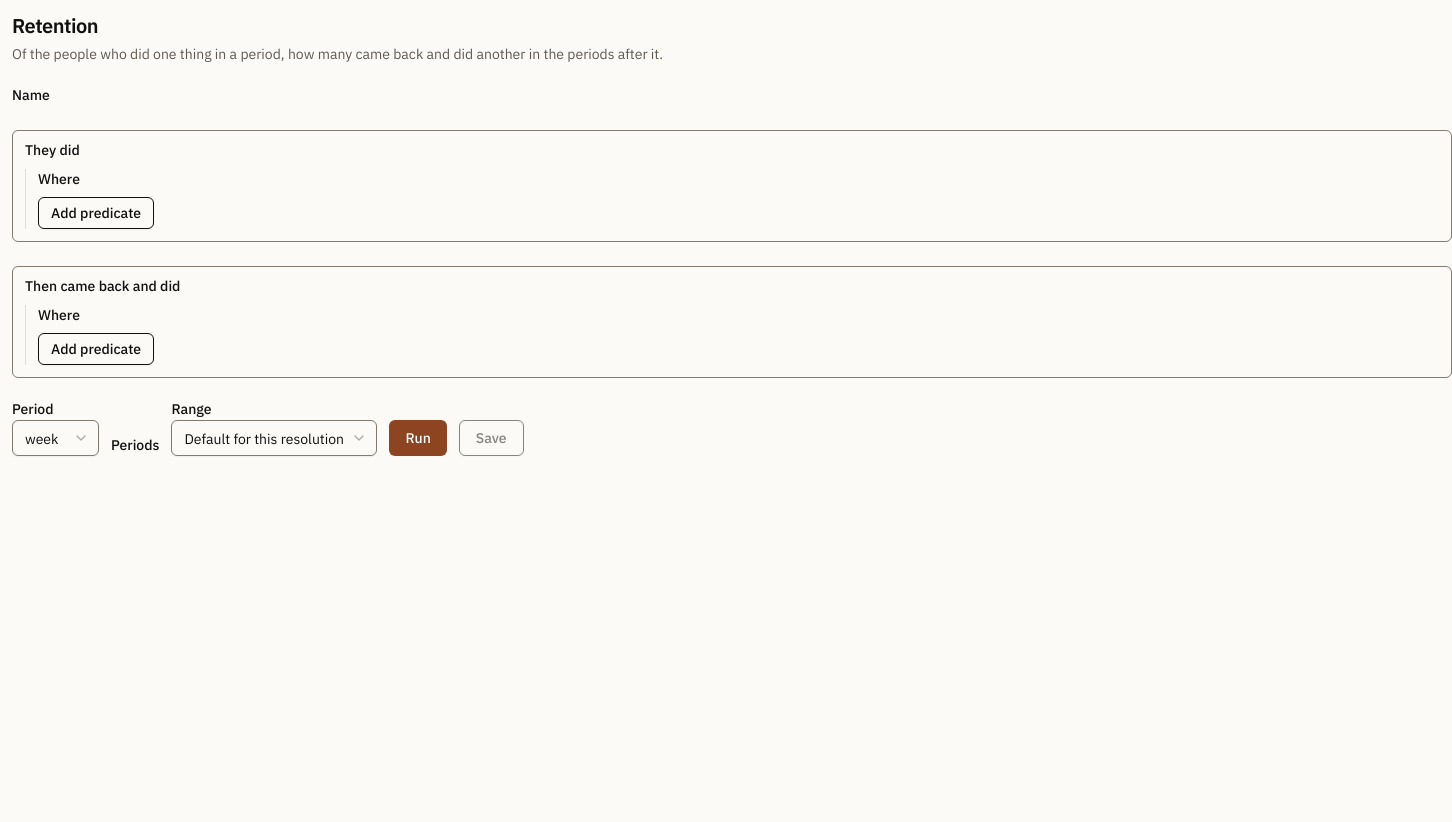
Retention › clears the grid when the definition changes, rather than leaving stale numbers under new controls
Click the button "Run". click: (418, 438)
box: left=389, top=420, right=447, bottom=456
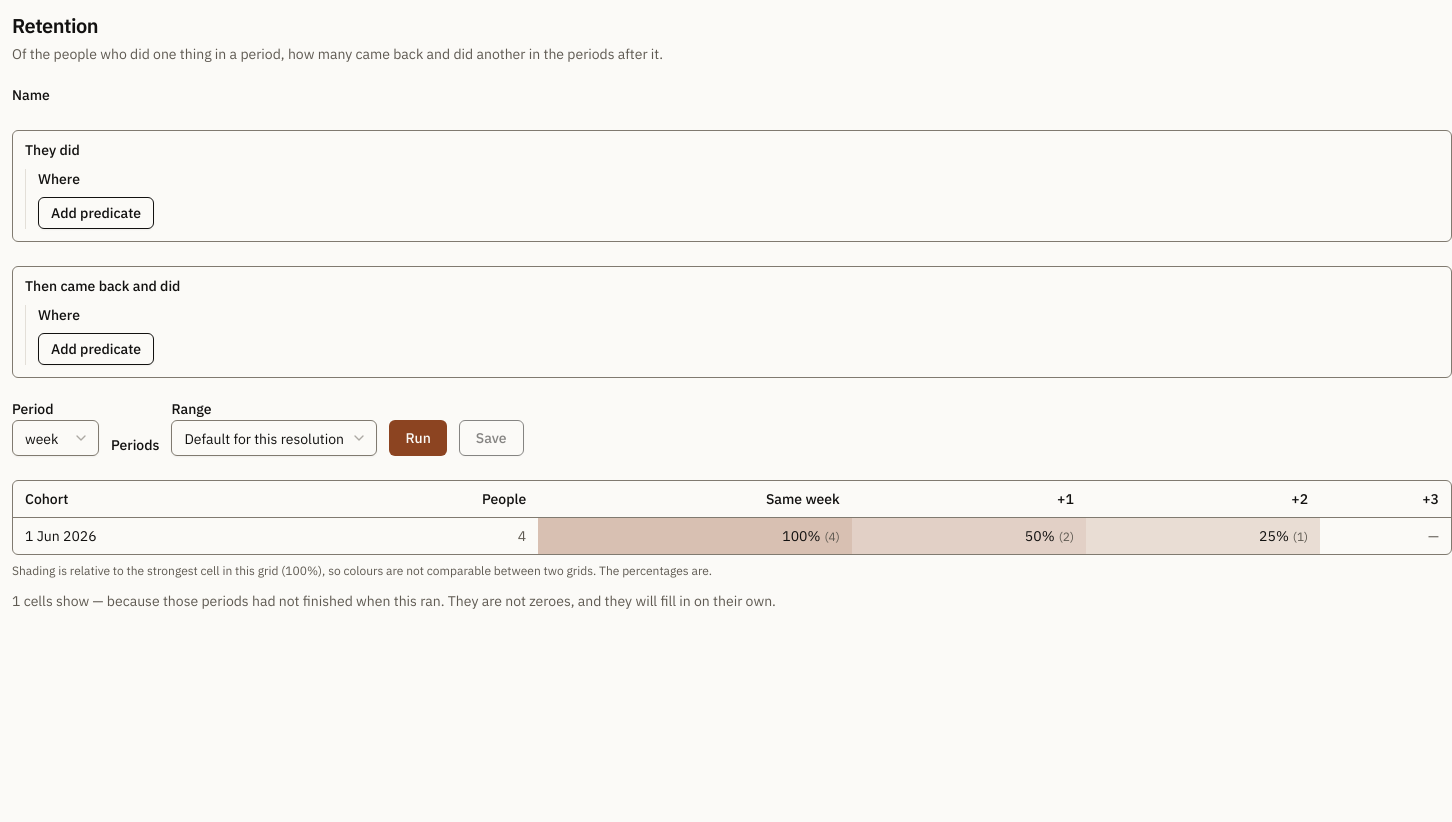
Check: the table with test id "retention-grid" is shown, box left=13, top=481, right=1451, bottom=554
Select "month" in the dropdown labelled "Period". click: (56, 438)
box: left=12, top=420, right=99, bottom=456
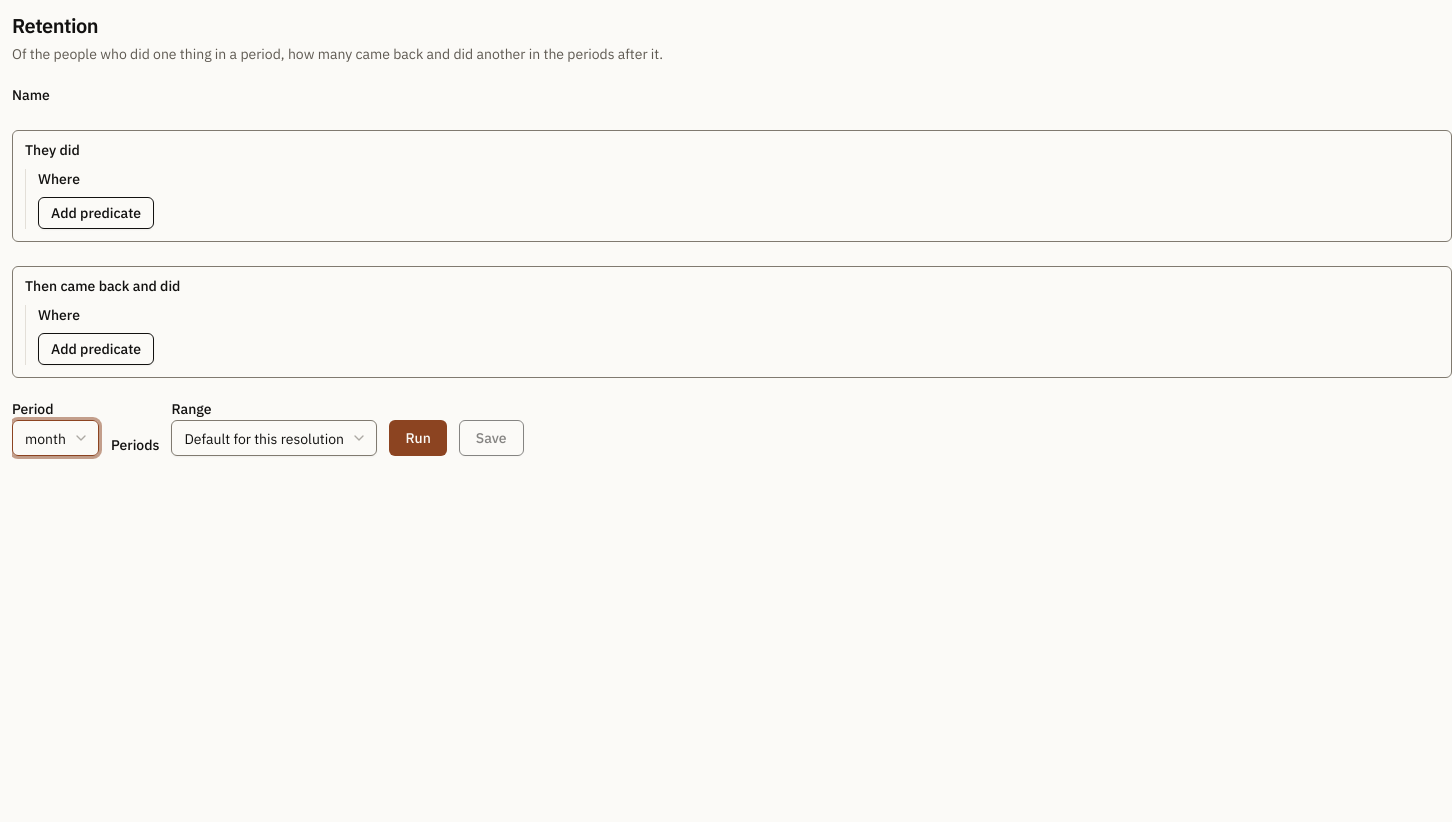
Check: the table with test id "retention-grid" is gone
